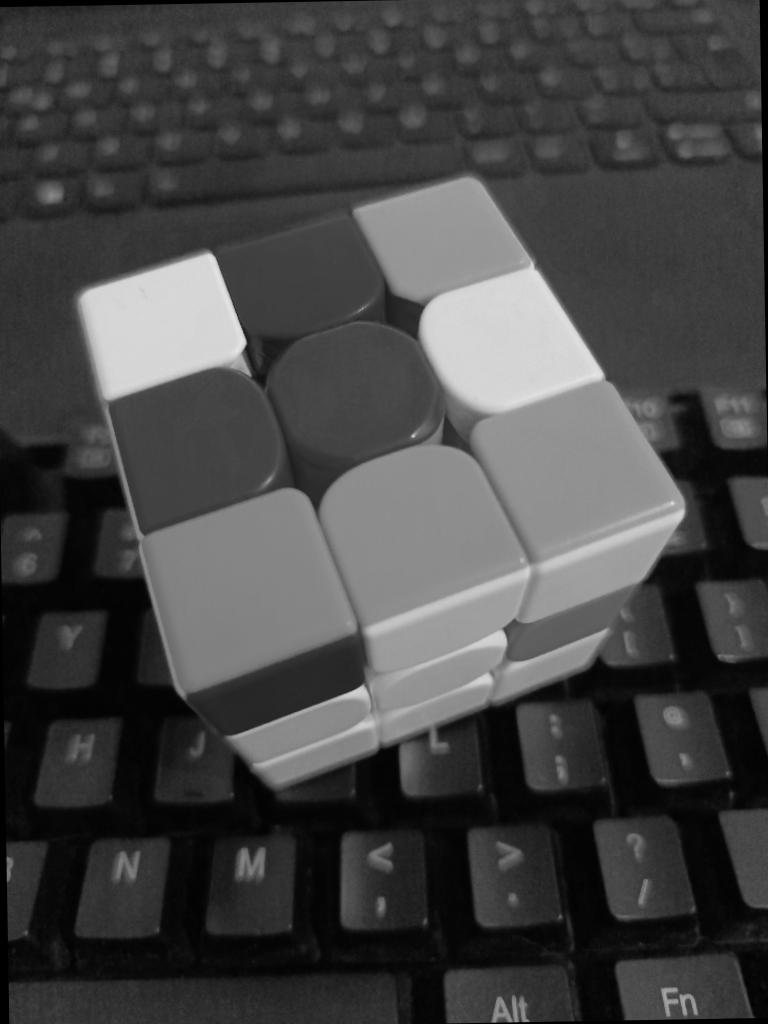rubik: (71, 167, 692, 793)
